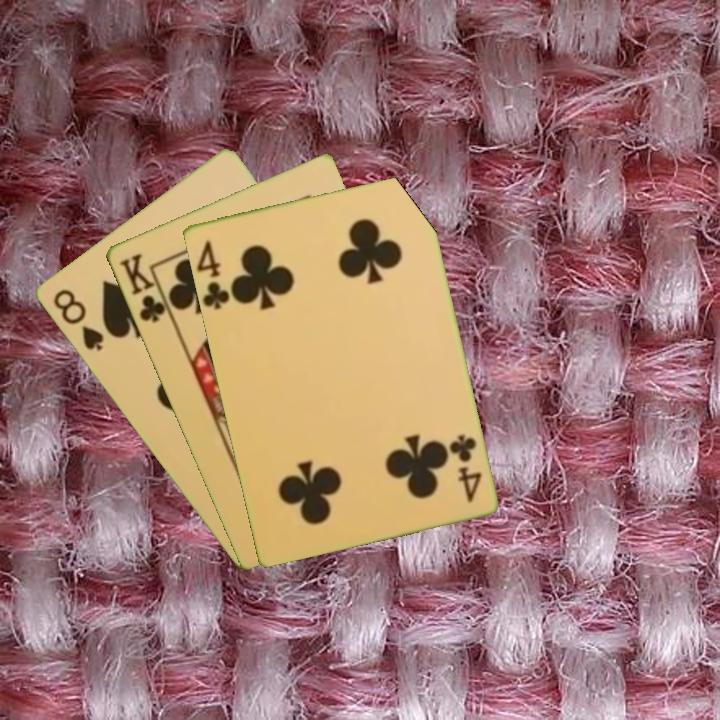4c: (193, 236, 232, 312), (445, 431, 484, 505)
8s: (48, 285, 106, 354)
Kc: (115, 249, 174, 326)
